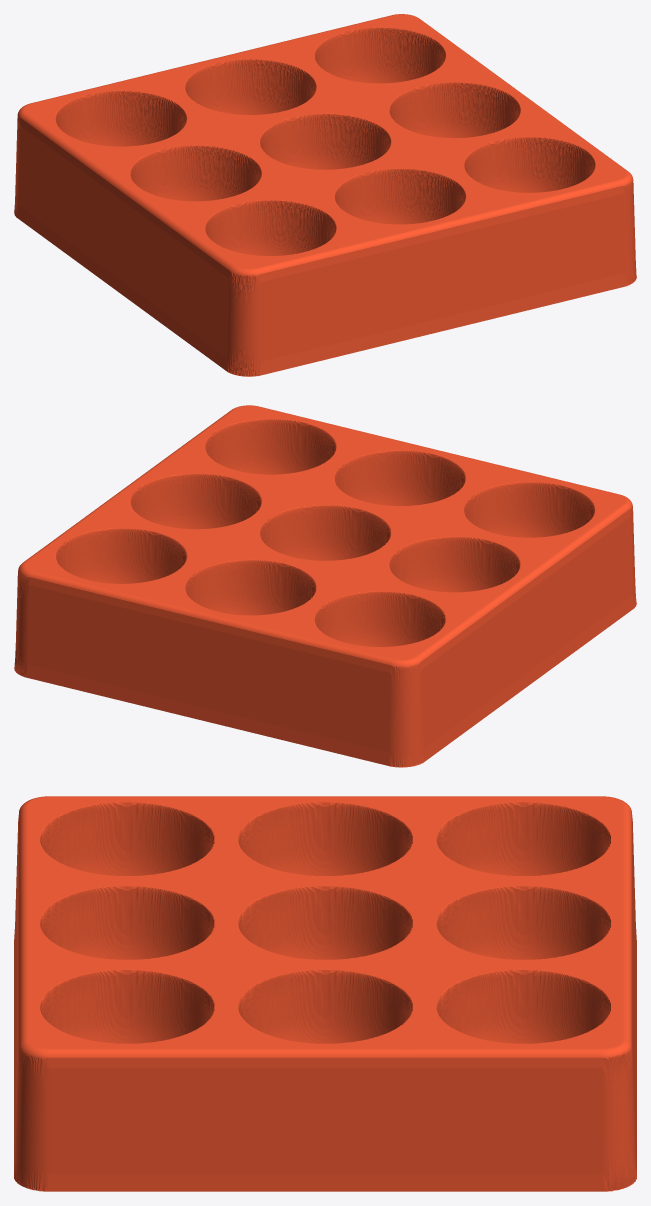
The model's file is mold.glb.
3 views of the same model, one above another, from view 1: azimuth 30°, elevation 25°; view 2: azimuth 150°, elevation 25°; view 3: azimuth 270°, elevation 25° (orthographic). The views are drawn at different scales.
Parts seen in each view (by area): view 1: geometry_0; view 2: geometry_0; view 3: geometry_0.
Part boxes in pixels (bbox=[...]): geometry_0: bbox=[14, 14, 636, 376]; geometry_0: bbox=[14, 405, 636, 767]; geometry_0: bbox=[14, 796, 636, 1191].
Bounding box in the file's own units: 0.1621 × 0.0393 × 0.1621.
